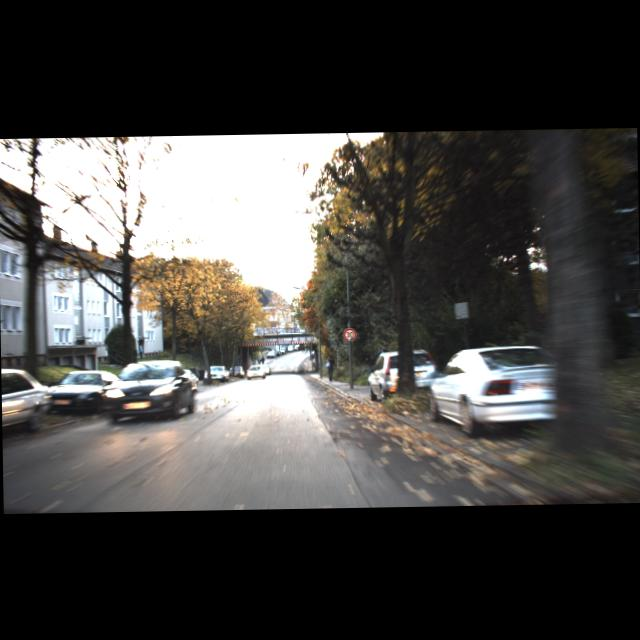prohibitory: (342, 326, 356, 341)
